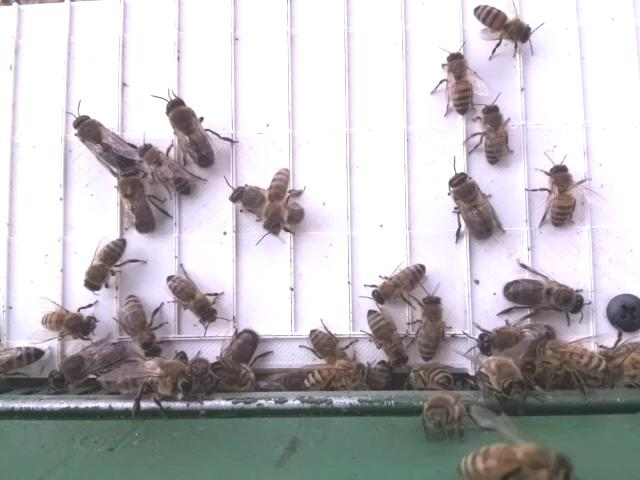Drone: (69, 111, 144, 177), (46, 335, 128, 393), (161, 88, 218, 169), (443, 168, 500, 243), (497, 275, 587, 316), (115, 165, 158, 235), (475, 322, 560, 356), (215, 324, 270, 371)
Worker: (451, 441, 581, 480), (99, 354, 198, 403), (161, 271, 224, 328), (476, 354, 531, 414), (114, 294, 167, 354), (437, 48, 480, 121), (368, 258, 433, 306), (410, 288, 451, 361), (140, 145, 197, 196), (362, 306, 412, 364), (472, 2, 535, 48), (416, 384, 468, 439), (296, 360, 369, 399), (82, 238, 132, 292), (476, 102, 518, 166), (38, 303, 102, 345), (303, 319, 355, 369), (545, 160, 579, 232), (261, 168, 294, 237)
